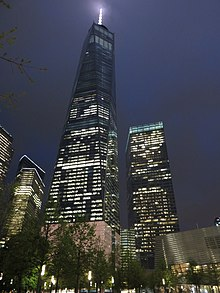wtc: (48, 6, 117, 244)
